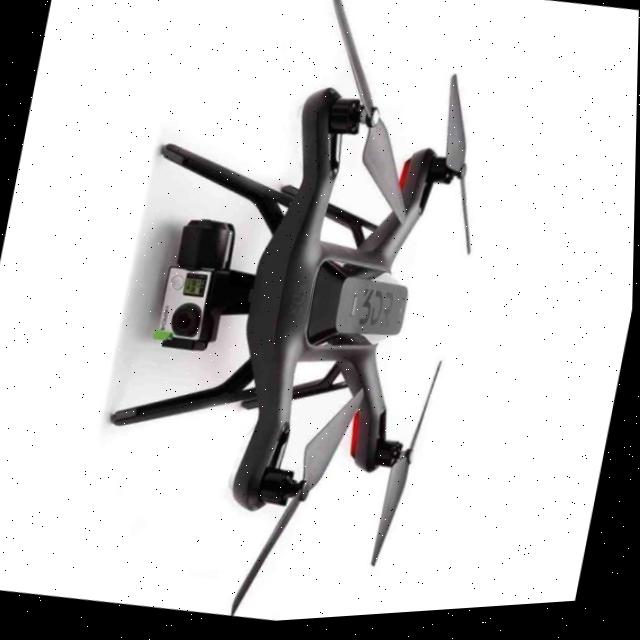drones: (51, 0, 542, 637)
